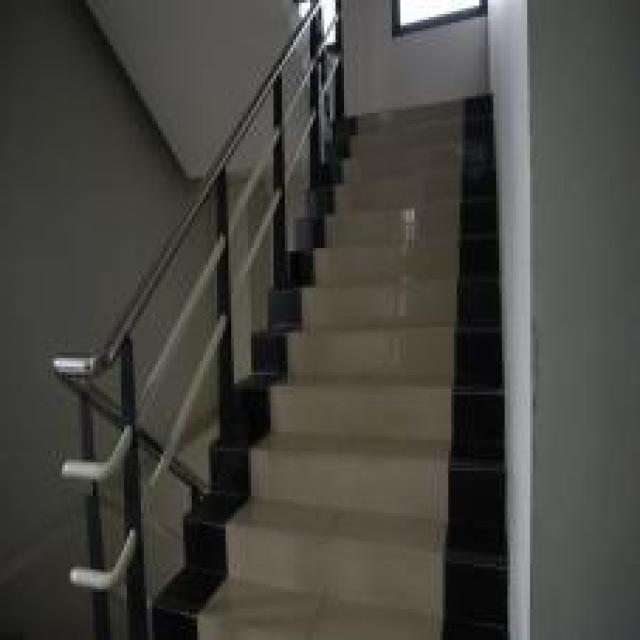upstair: (325, 89, 500, 639)
